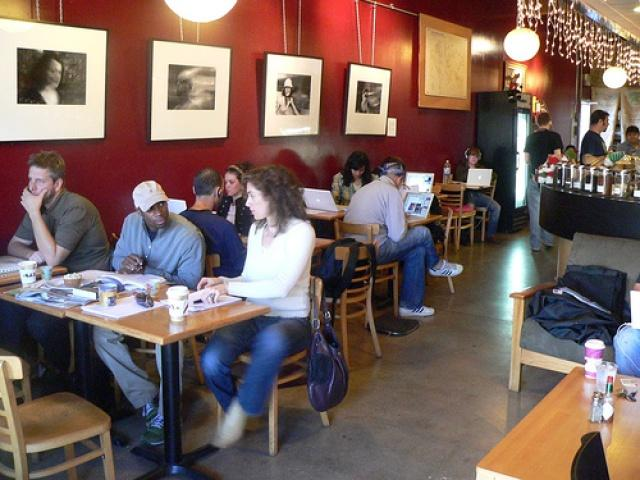Kursi: (0, 352, 117, 479)
